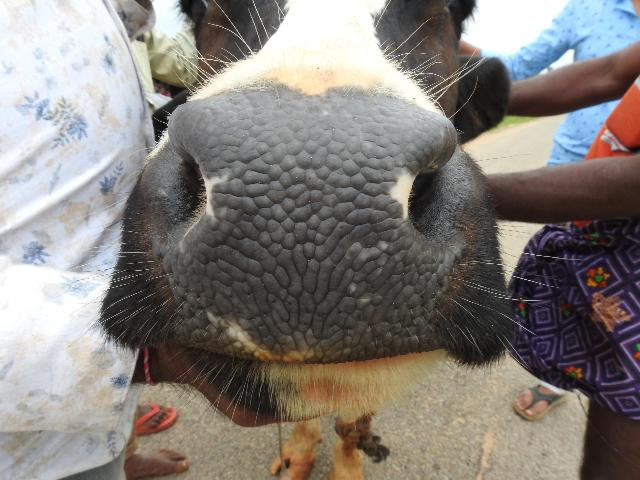Muzzle: (172, 104, 434, 356)
